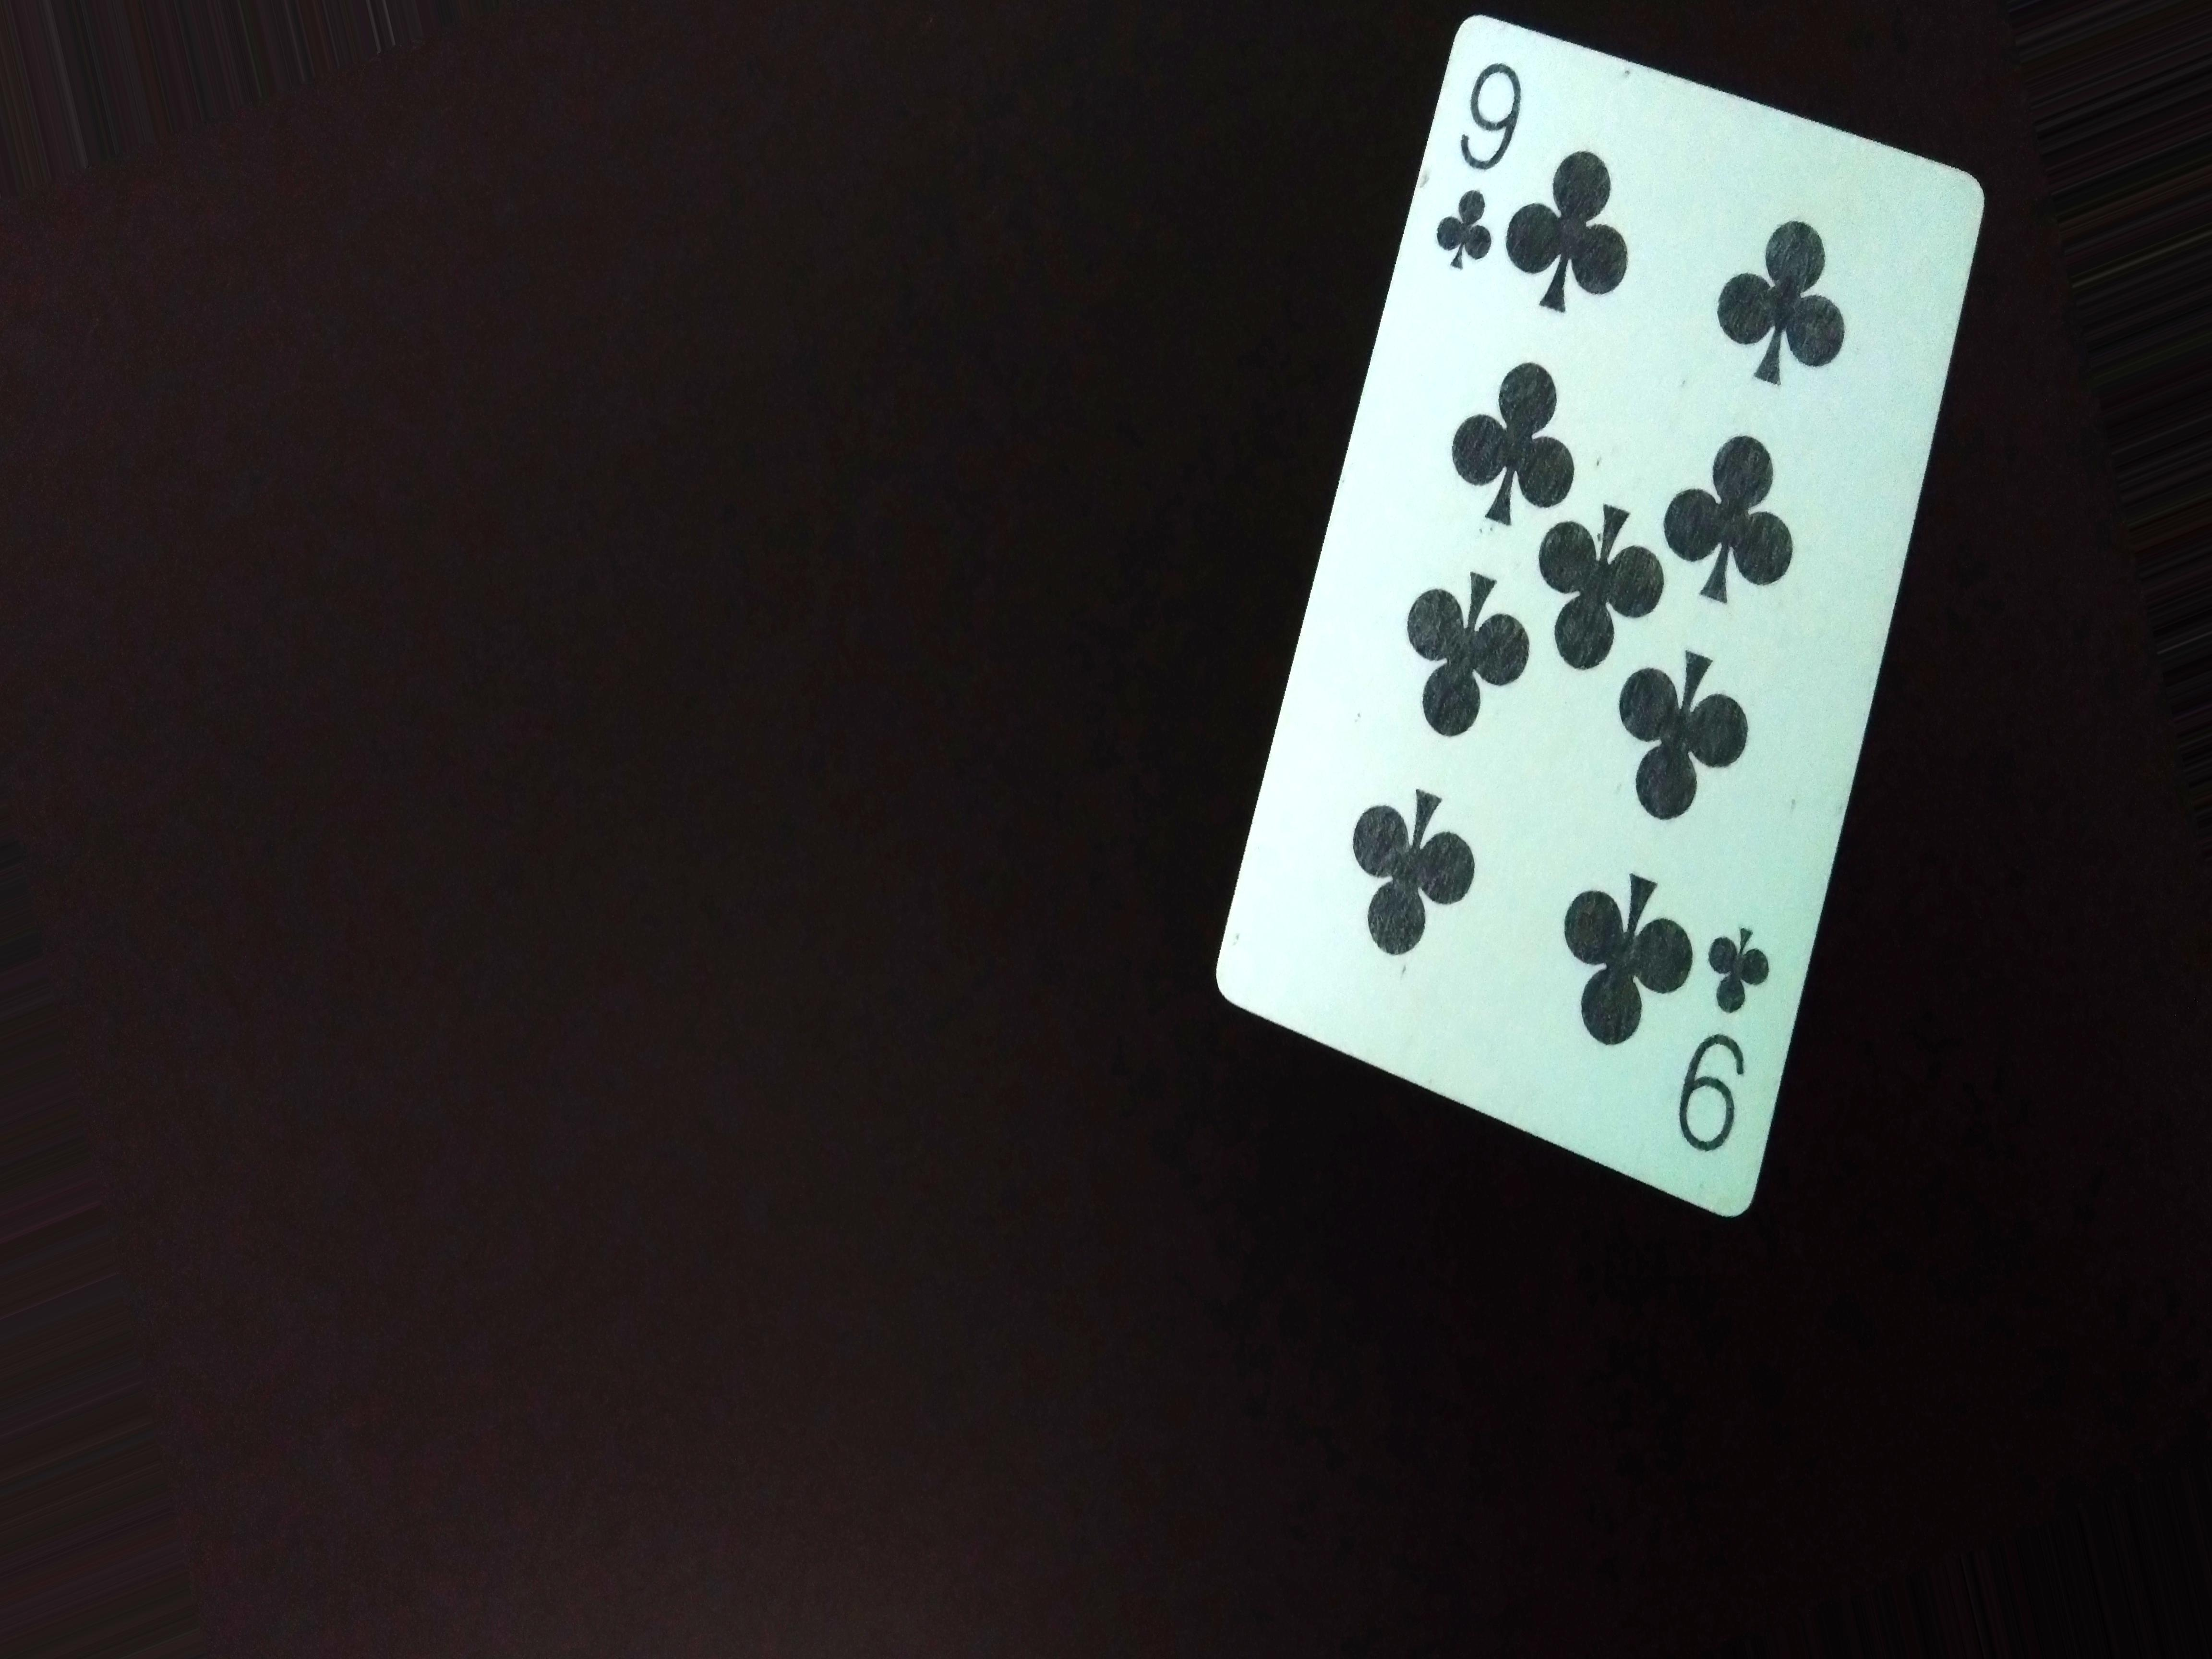9C: (1663, 917, 1778, 1169)
